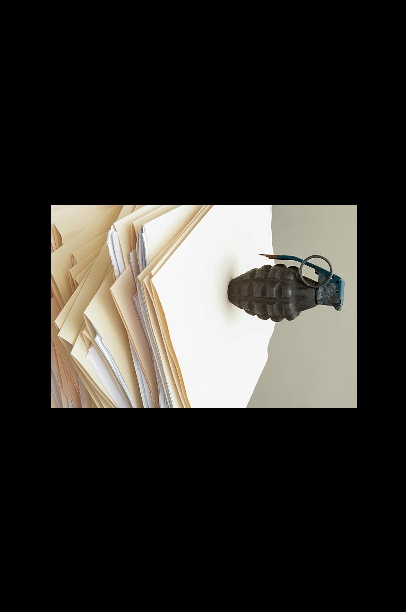e1: (225, 245, 349, 331)
